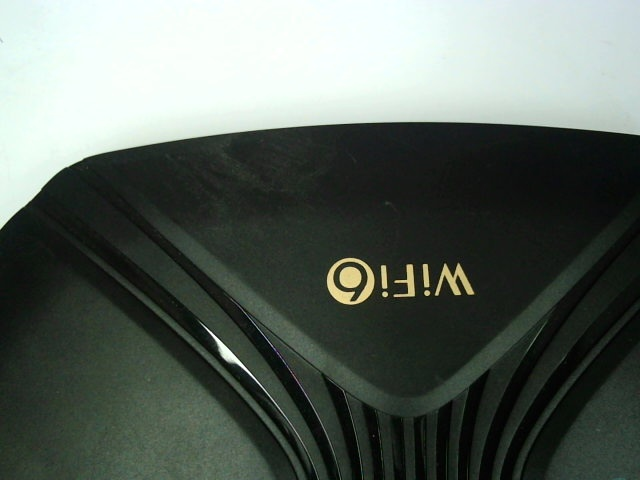AK_ZTEWIFI6Black: (317, 246, 480, 314)
